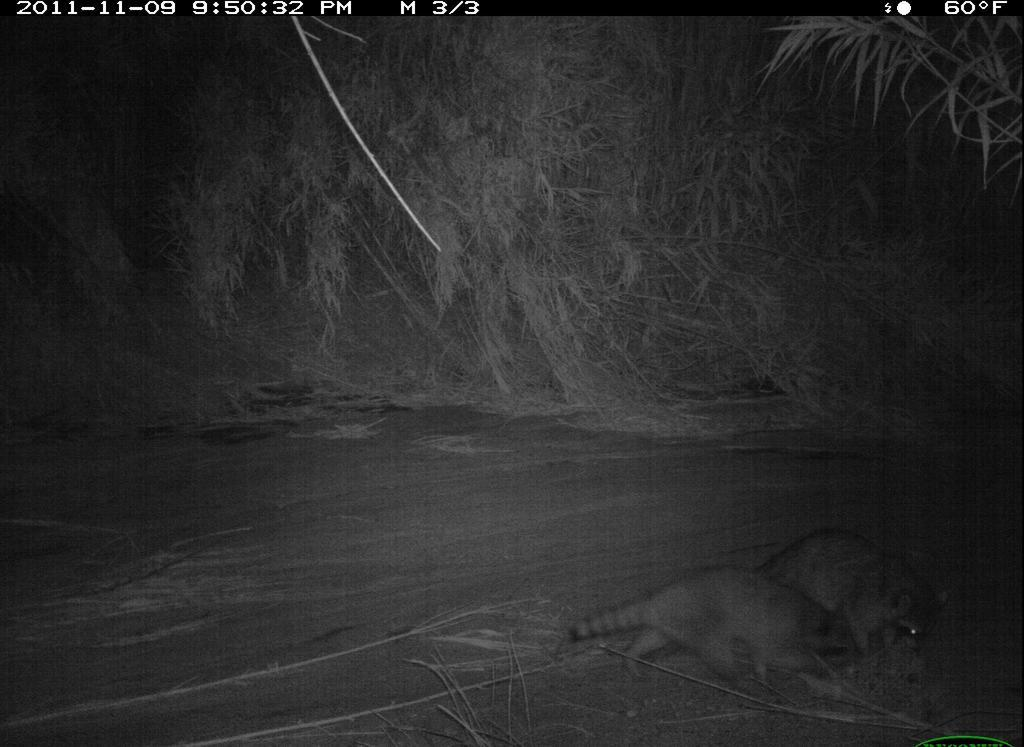raccoon: (568, 562, 863, 697), (742, 519, 950, 657)
